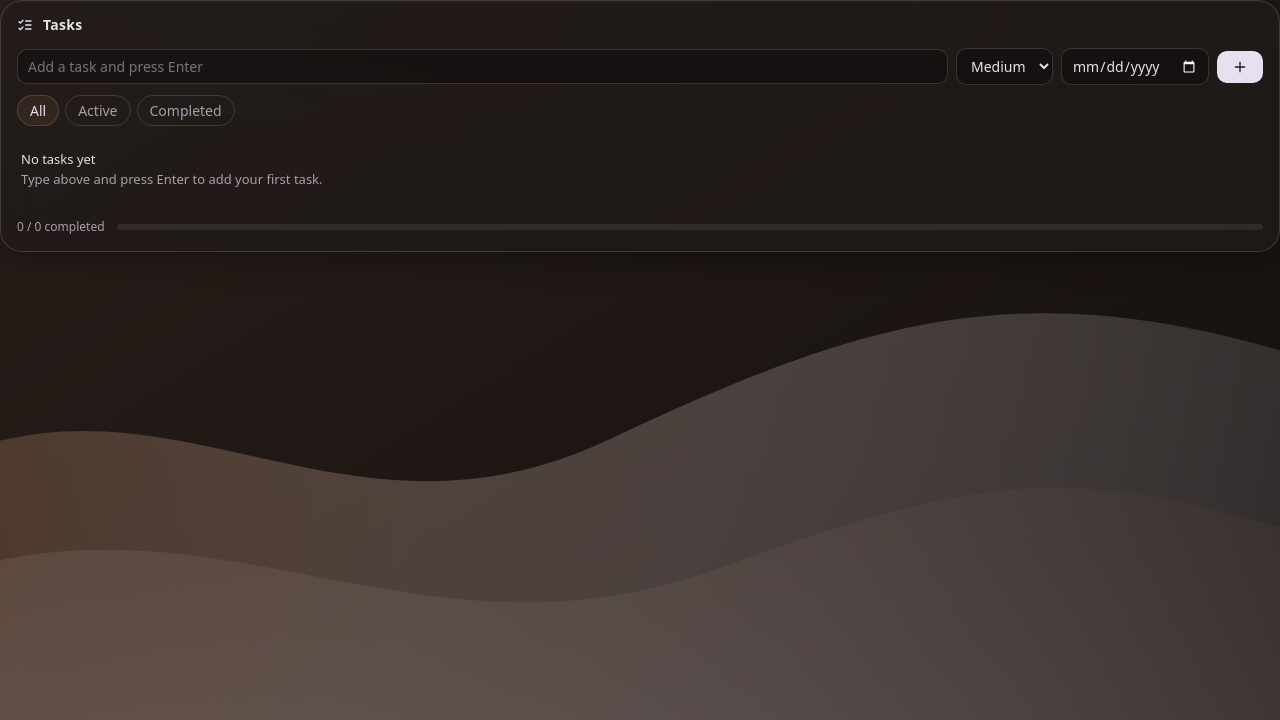
Scenario: Tasks widget › needs two clicks to delete a task
Type "Alpha" into the field named "New task" at coordinates (482, 66), box [17, 49, 948, 84]
Then press Enter
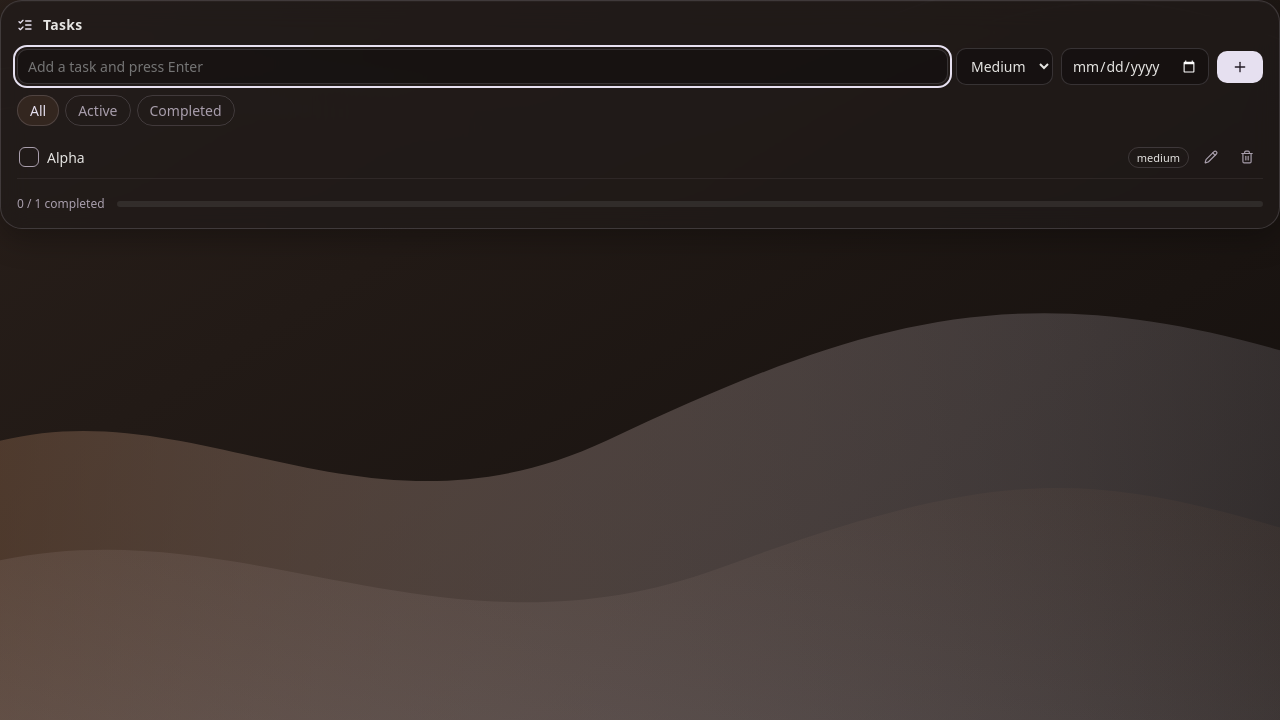
Click the button named "Delete task: Alpha" at coordinates (1247, 157), box [1233, 143, 1261, 171]
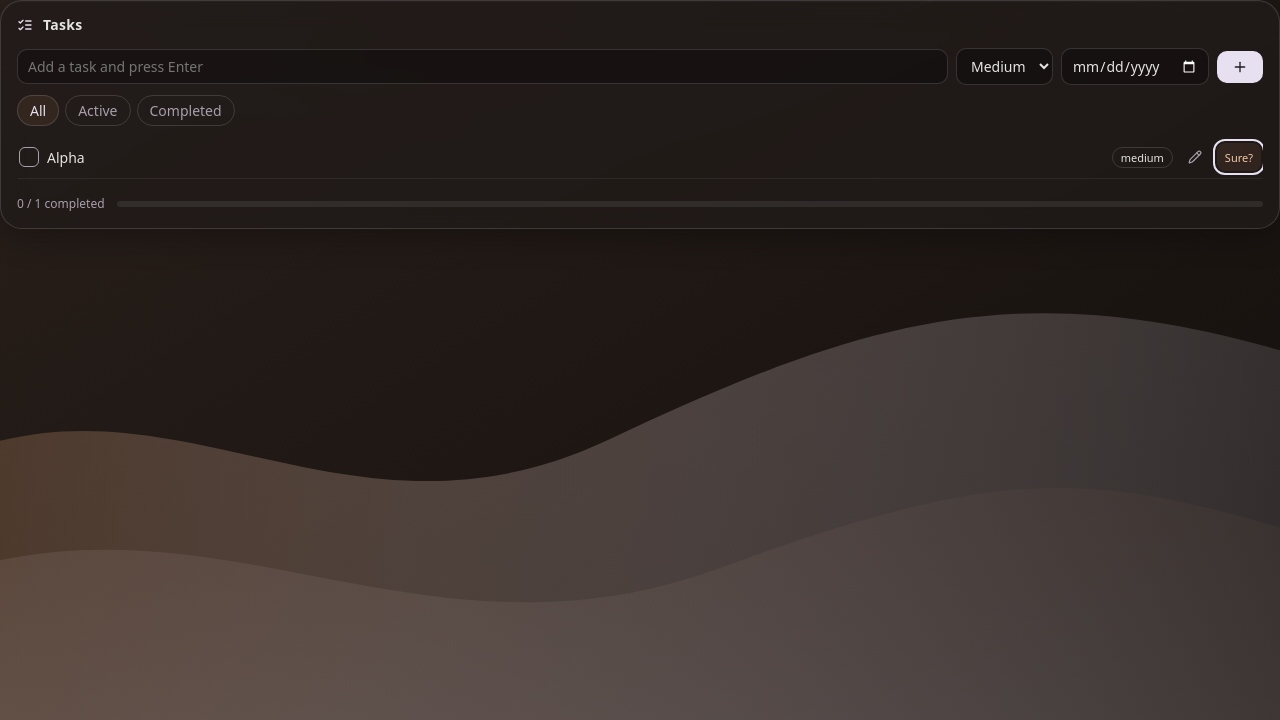
Check: the text "Alpha" is shown, box [47, 148, 85, 166]
Click the button with aria-label "Confirm: Delete task: Alpha" at coordinates (1239, 157), box [1217, 143, 1261, 171]
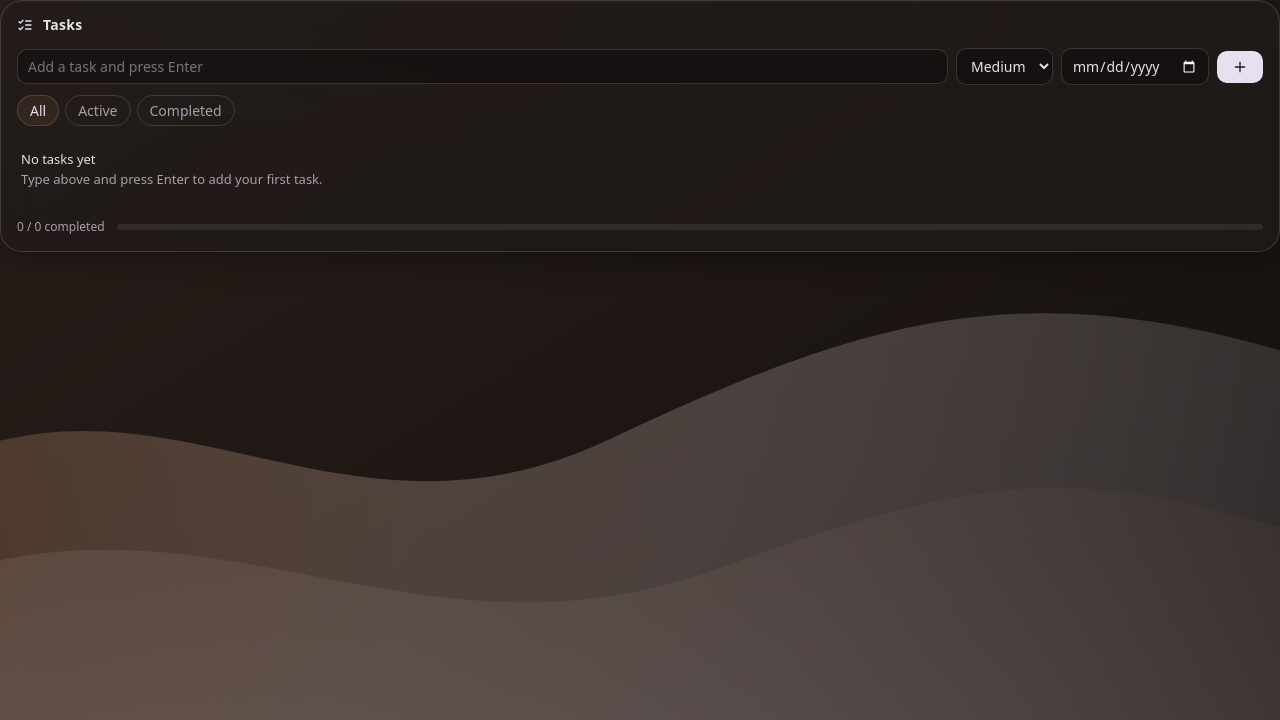
Check: the text "Alpha" is gone
